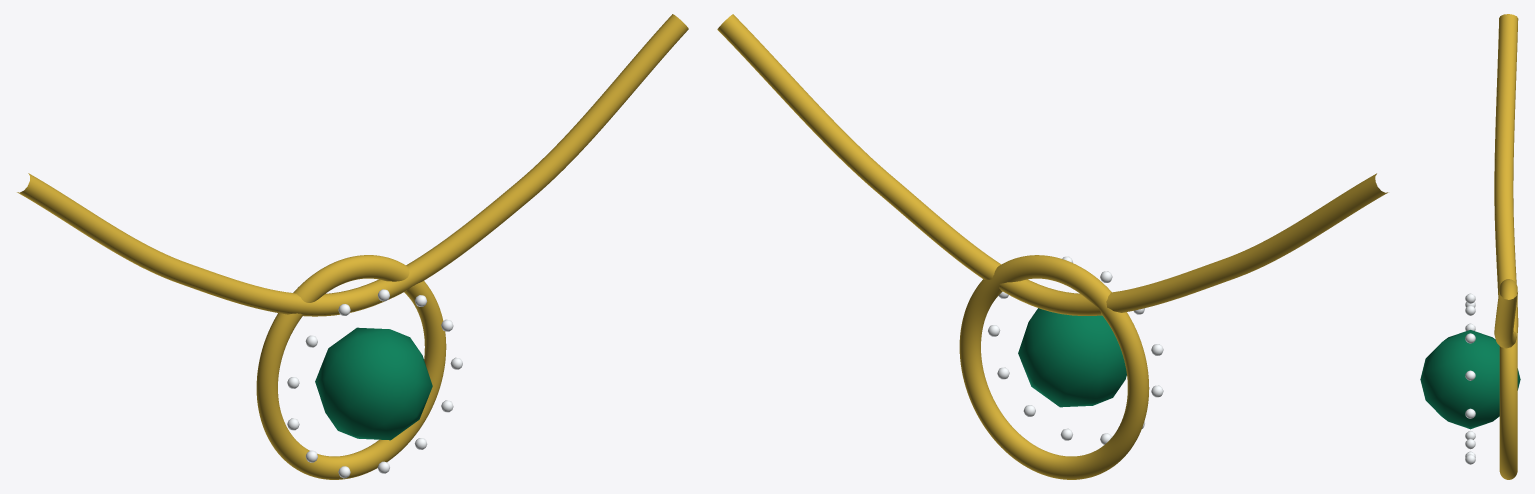
File: nile-emerald-pendant.glb
The picture shows the model from 3 angles, left to right: view 1: azimuth 30°, elevation 25°; view 2: azimuth 150°, elevation 25°; view 3: azimuth 270°, elevation 25°; orthographic projection. The views are drawn at different scales.
Parts seen in each view (by area): view 1: chain, pendant_frame, pendant_gem; view 2: chain, pendant_frame, pendant_gem; view 3: chain, pendant_gem, pendant_frame.
Boxes of the visible parts, x1,y1,x2,y2 form: chain: [17, 14, 688, 316]; pendant_frame: [256, 255, 446, 479]; pendant_gem: [315, 327, 432, 440]; chain: [717, 14, 1388, 315]; pendant_frame: [959, 255, 1149, 479]; pendant_gem: [1018, 308, 1126, 407]; chain: [1494, 14, 1518, 348]; pendant_gem: [1420, 330, 1520, 429]; pendant_frame: [1499, 279, 1517, 479].
Size of the model in its own units: 2.75 by 1.5 by 0.42.
